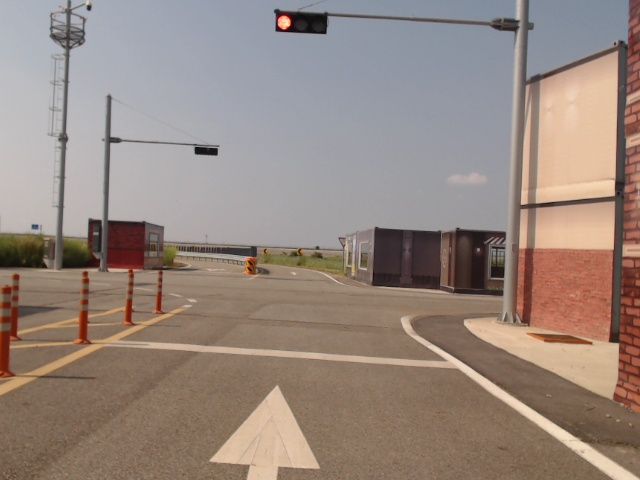red_3: (274, 9, 329, 36)
